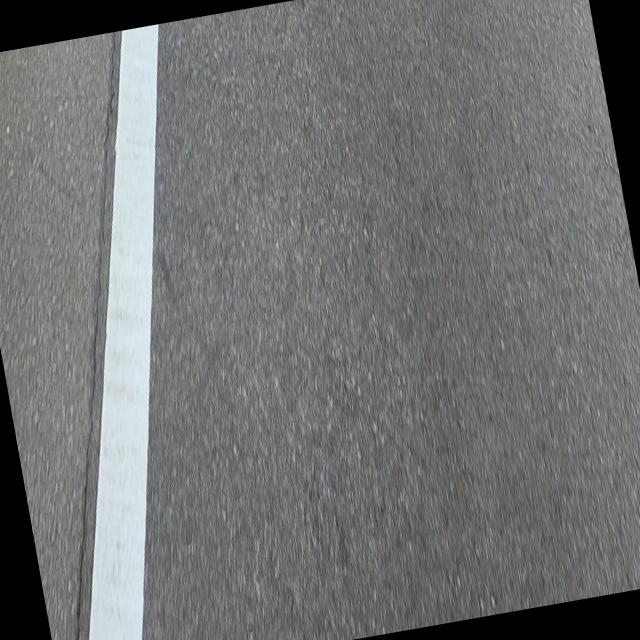Retak-Memanjang: (70, 30, 121, 640)
